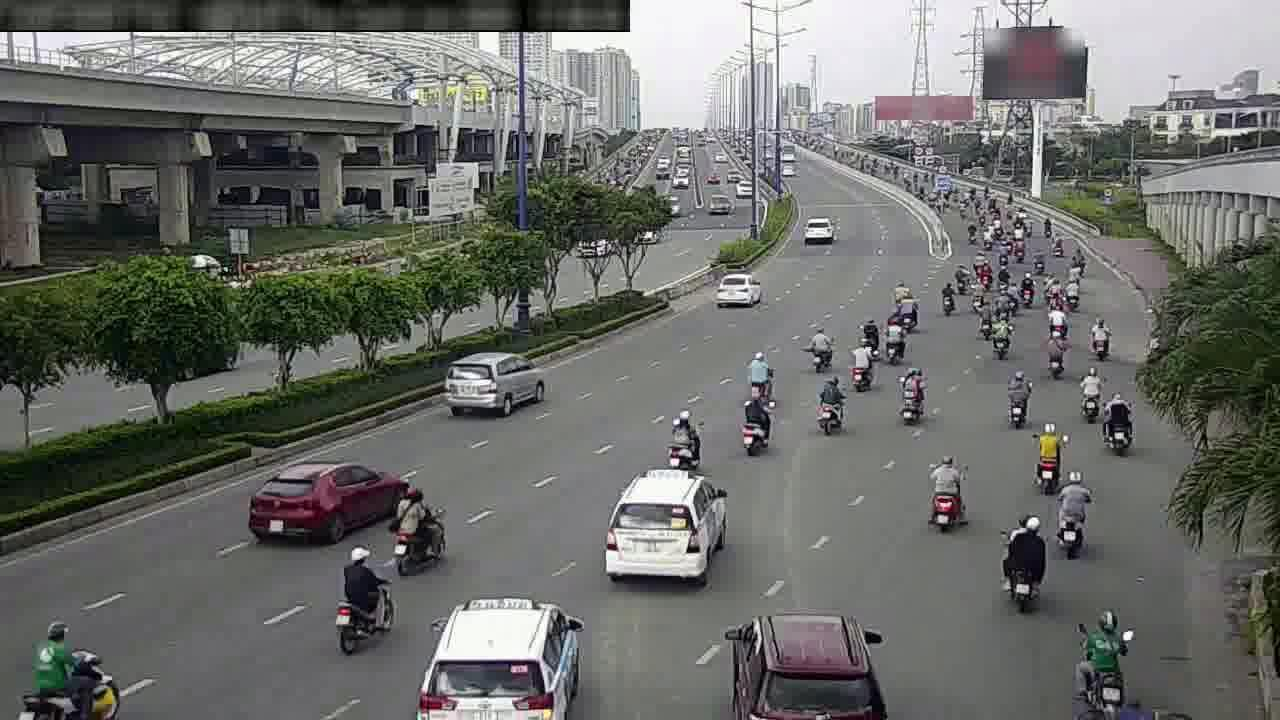container: (428, 572, 581, 712), (731, 586, 878, 704), (604, 461, 725, 584), (260, 448, 405, 542), (445, 346, 544, 418), (711, 264, 761, 309)
motorbike: (17, 614, 116, 717), (331, 541, 399, 648), (1071, 603, 1131, 707), (385, 487, 449, 578), (995, 511, 1050, 612), (922, 451, 970, 534), (1051, 471, 1094, 554), (734, 385, 777, 459), (663, 400, 705, 472), (1028, 421, 1066, 489), (1098, 390, 1137, 455), (812, 371, 849, 438), (893, 362, 930, 427), (1003, 367, 1034, 431), (1074, 364, 1107, 422), (742, 347, 774, 401), (845, 339, 875, 392), (1038, 329, 1069, 379), (809, 319, 834, 376), (987, 310, 1015, 359), (881, 312, 908, 362), (1089, 312, 1113, 363), (933, 274, 959, 320), (1043, 301, 1070, 343), (898, 288, 920, 330), (860, 312, 881, 356), (1061, 273, 1084, 311), (965, 276, 986, 313), (978, 299, 994, 335)
